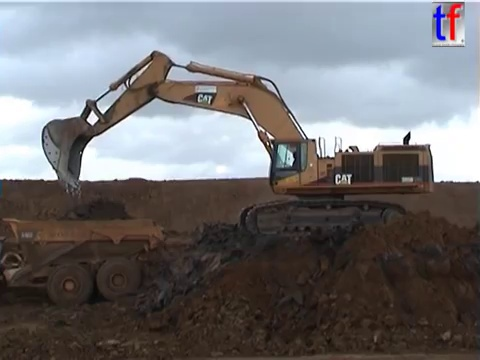excavator: (38, 47, 437, 244)
truck: (1, 213, 167, 308)
